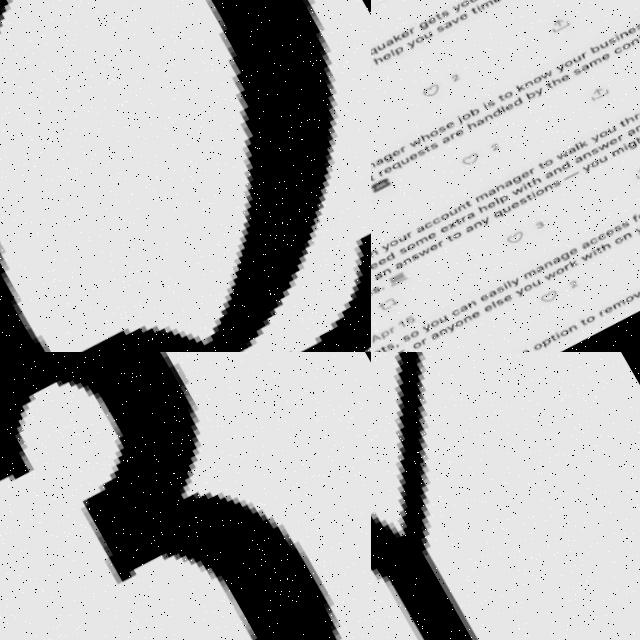1: (406, 308, 416, 318)
3: (0, 352, 371, 640)
A: (371, 325, 382, 338), (544, 160, 556, 171), (385, 31, 395, 41), (444, 13, 454, 23), (374, 150, 384, 160), (442, 128, 452, 138), (476, 109, 486, 119), (580, 53, 590, 63), (416, 217, 426, 227), (488, 179, 498, 189), (567, 136, 577, 146), (626, 116, 636, 126), (374, 265, 384, 275), (466, 216, 476, 226), (373, 342, 383, 352), (459, 296, 469, 306), (535, 255, 545, 265), (552, 246, 562, 256), (581, 231, 591, 241), (430, 323, 440, 333), (503, 171, 513, 180), (466, 203, 476, 212), (574, 146, 584, 155), (394, 255, 404, 264), (488, 281, 498, 290)
B: (468, 97, 481, 108), (590, 33, 601, 45), (526, 81, 538, 91)
C: (612, 35, 624, 46), (423, 212, 435, 223), (431, 208, 443, 219), (588, 226, 600, 237), (596, 221, 608, 232), (452, 300, 462, 310)
D: (491, 99, 503, 110), (560, 150, 572, 161), (385, 245, 397, 255), (512, 89, 522, 98)
E: (399, 23, 412, 34), (458, 4, 471, 15), (382, 45, 394, 56), (390, 141, 402, 152), (444, 112, 456, 123), (600, 41, 612, 52), (603, 294, 615, 305), (428, 8, 438, 18), (627, 15, 637, 25), (384, 158, 394, 168), (455, 120, 465, 130), (520, 161, 530, 171), (377, 250, 387, 260), (440, 217, 450, 227), (609, 126, 619, 136), (429, 235, 439, 245), (480, 285, 490, 295), (503, 285, 513, 295), (521, 339, 531, 349), (409, 146, 419, 155), (505, 94, 515, 103), (560, 64, 570, 73), (427, 224, 437, 233), (487, 192, 497, 201), (510, 192, 520, 201), (569, 237, 579, 246), (606, 218, 616, 227), (471, 302, 481, 311), (484, 295, 494, 304), (371, 254, 379, 264), (390, 345, 400, 352)
F: (632, 203, 640, 212)
G: (384, 146, 396, 157), (628, 129, 640, 140), (512, 166, 524, 176), (418, 14, 428, 24), (560, 242, 570, 252)
H: (420, 125, 430, 135), (624, 104, 634, 114), (478, 195, 488, 205), (532, 167, 542, 177), (601, 231, 611, 241), (552, 67, 562, 77), (374, 49, 384, 58), (468, 113, 478, 122), (512, 343, 522, 352), (371, 241, 379, 251), (636, 123, 640, 132)
I: (482, 94, 488, 102), (614, 23, 620, 31), (623, 132, 629, 140), (555, 322, 561, 330), (522, 174, 528, 181), (531, 182, 537, 189), (503, 274, 509, 281), (591, 239, 597, 246), (476, 0, 482, 3)
J: (455, 107, 464, 118)
K: (392, 25, 403, 37), (516, 74, 526, 84), (578, 129, 588, 139), (569, 248, 579, 258)
L: (390, 42, 396, 50), (574, 133, 580, 141), (491, 292, 497, 300), (495, 189, 501, 196), (501, 97, 506, 104), (507, 272, 512, 279)
M: (589, 46, 603, 59), (475, 183, 489, 196), (415, 227, 429, 240), (611, 135, 625, 148), (523, 258, 537, 271), (612, 287, 626, 300), (481, 0, 495, 3)
N: (552, 155, 564, 166), (381, 260, 393, 271), (543, 173, 555, 184), (524, 70, 534, 80), (620, 19, 630, 29), (458, 195, 468, 205), (403, 249, 413, 259), (467, 291, 477, 301), (544, 250, 554, 260), (438, 319, 448, 329), (462, 306, 472, 316), (623, 220, 633, 230), (568, 314, 578, 324), (484, 105, 494, 114), (630, 26, 640, 35), (496, 175, 506, 184), (582, 141, 592, 150), (473, 212, 483, 221), (634, 111, 640, 122), (371, 154, 376, 164), (382, 349, 392, 352)
O: (414, 27, 426, 38), (532, 65, 544, 76), (439, 204, 451, 215), (534, 178, 546, 189), (590, 148, 602, 159), (522, 273, 534, 284), (554, 256, 566, 267), (558, 318, 570, 329), (585, 303, 597, 314), (624, 283, 636, 294), (621, 31, 633, 41), (598, 119, 610, 129), (461, 104, 471, 114), (504, 81, 514, 91), (564, 49, 574, 59), (406, 235, 416, 245), (453, 223, 463, 233), (430, 312, 440, 322), (412, 333, 422, 343), (454, 311, 464, 321), (614, 225, 624, 235), (430, 121, 440, 130), (389, 232, 399, 241), (544, 149, 554, 158), (410, 323, 420, 332), (534, 333, 544, 342), (636, 199, 640, 210)
P: (542, 328, 554, 339), (500, 186, 510, 196), (381, 323, 391, 333), (395, 40, 405, 49)
Q: (0, 0, 371, 352), (492, 200, 505, 213), (391, 154, 403, 165), (371, 40, 378, 50)
R: (408, 19, 416, 28), (580, 41, 588, 50), (450, 124, 458, 133), (437, 232, 445, 241), (399, 341, 407, 350), (389, 319, 397, 328), (598, 299, 606, 308), (400, 138, 408, 146), (378, 163, 386, 171), (529, 158, 537, 166), (617, 123, 625, 131), (564, 253, 572, 261), (633, 101, 640, 109), (461, 207, 468, 215), (421, 330, 428, 338), (407, 224, 414, 231)
S: (550, 169, 562, 180), (441, 1, 451, 11), (416, 141, 426, 151), (430, 134, 440, 144), (573, 57, 583, 67), (590, 136, 600, 146), (386, 335, 396, 345), (402, 327, 412, 337), (614, 213, 624, 223), (399, 239, 409, 249), (436, 17, 446, 26), (437, 117, 447, 126), (486, 91, 496, 100), (607, 26, 617, 35), (410, 246, 420, 255), (518, 188, 528, 197), (372, 279, 382, 288), (496, 277, 506, 286), (620, 210, 630, 219), (495, 289, 505, 298), (635, 11, 640, 21), (371, 282, 373, 292)
T: (435, 5, 443, 14), (546, 72, 554, 81), (538, 152, 546, 161), (619, 109, 627, 118), (525, 184, 533, 193), (380, 339, 388, 348), (580, 308, 588, 317), (498, 85, 506, 93), (446, 227, 454, 235), (596, 236, 604, 244), (550, 325, 558, 333), (470, 0, 478, 7), (424, 138, 431, 145), (465, 193, 472, 200), (455, 210, 462, 217), (526, 172, 533, 179), (506, 347, 513, 352), (371, 167, 375, 175), (638, 23, 640, 30)
U: (598, 29, 610, 40), (397, 226, 409, 237), (448, 199, 460, 210), (377, 35, 387, 45), (424, 23, 434, 33), (572, 44, 582, 54), (400, 149, 410, 159), (502, 196, 512, 206), (599, 144, 609, 154), (438, 306, 448, 316), (532, 269, 542, 279), (608, 115, 618, 124)
V: (452, 8, 462, 17), (633, 278, 640, 288)
W: (596, 130, 612, 143), (409, 129, 423, 142), (556, 139, 570, 152), (512, 177, 526, 190), (540, 59, 554, 71), (418, 239, 432, 251), (580, 241, 594, 253), (544, 260, 557, 272)
X: (448, 213, 458, 222)
Y: (371, 352, 640, 640), (516, 278, 526, 290), (408, 33, 418, 43), (556, 54, 566, 64), (535, 78, 545, 88), (382, 236, 392, 246), (482, 208, 492, 218), (582, 154, 592, 164), (422, 316, 432, 326), (510, 269, 520, 279), (447, 316, 457, 326), (591, 125, 601, 134), (452, 0, 462, 5), (635, 215, 640, 224)
